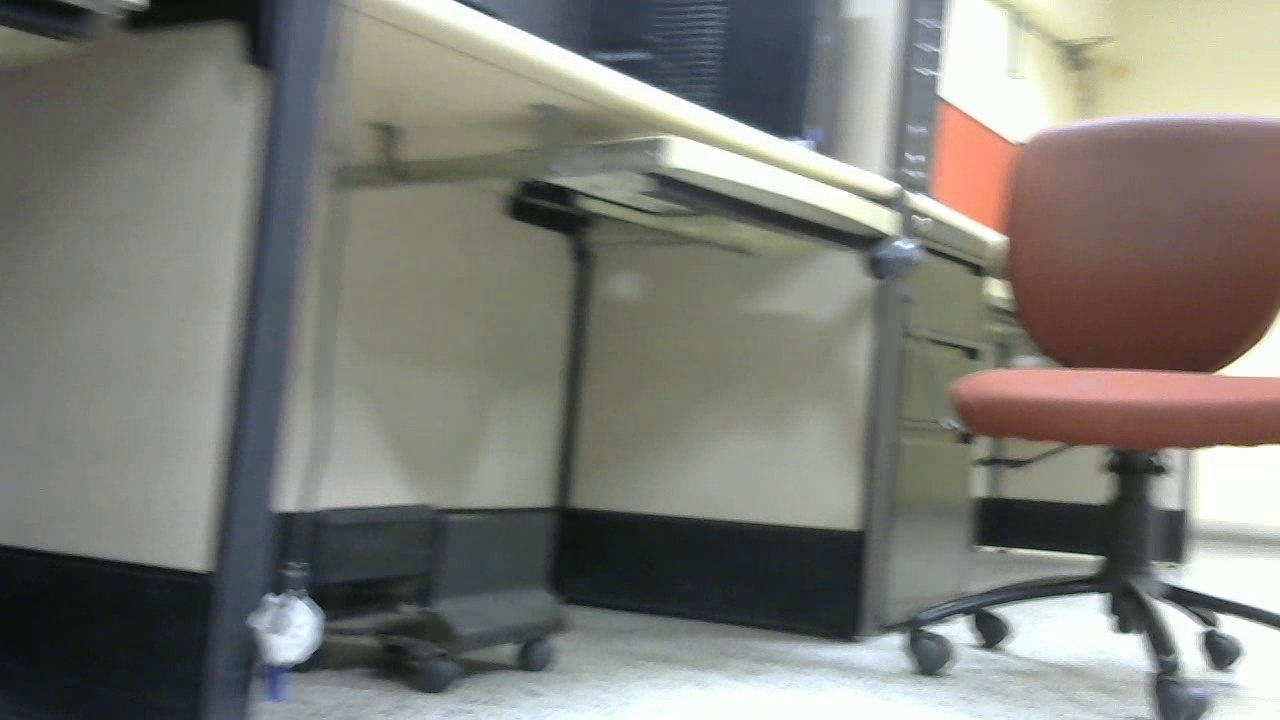chair: (865, 103, 1280, 720)
